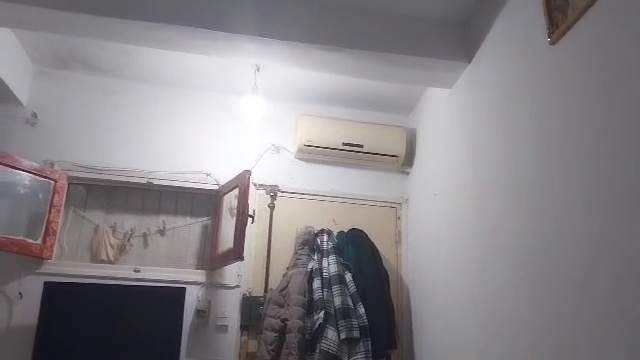air_conditioner: (292, 104, 419, 173)
